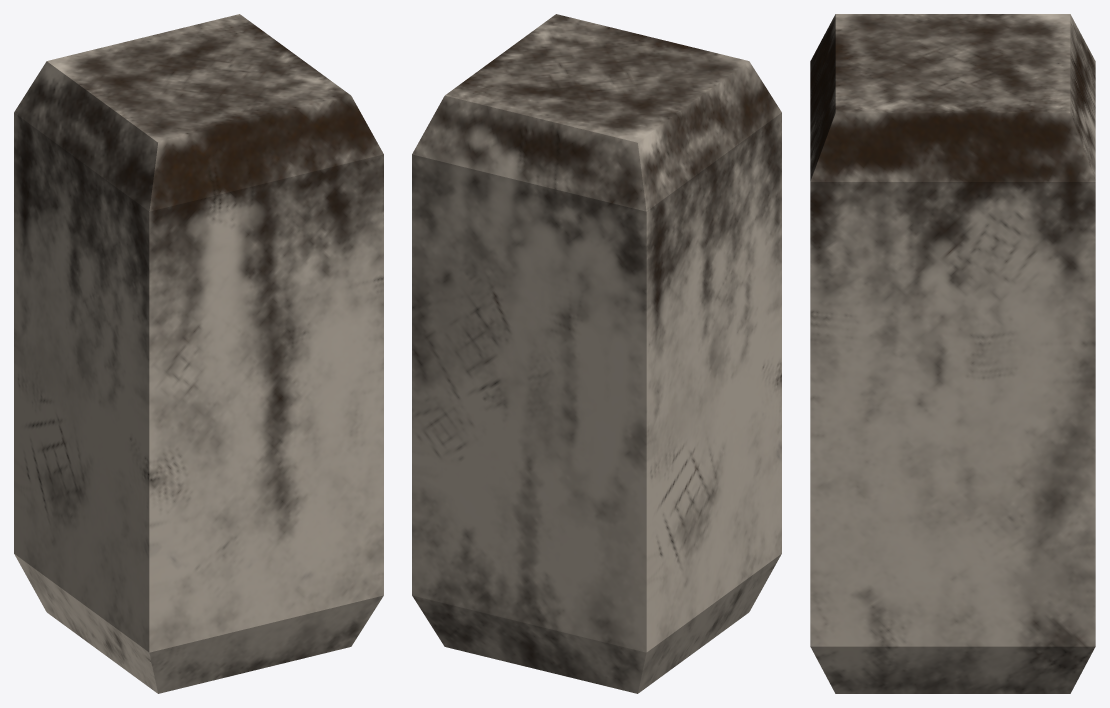
File: pillar-var1.fbx
3 views of the same model, side by side, from view 1: azimuth 30°, elevation 25°; view 2: azimuth 150°, elevation 25°; view 3: azimuth 270°, elevation 25° (orthographic). The views are drawn at different scales.
Parts seen in each view (by area): view 1: GON_3Denviornment:pCube2; view 2: GON_3Denviornment:pCube2; view 3: GON_3Denviornment:pCube2.
Part boxes in pixels (<box>): GON_3Denviornment:pCube2: <box>14,14,383,693</box>; GON_3Denviornment:pCube2: <box>412,14,781,693</box>; GON_3Denviornment:pCube2: <box>810,14,1095,693</box>.
Bounding box in the file's own units: 1.31 × 2.94 × 1.31.
Materials: 1 (1 with a texture image).
